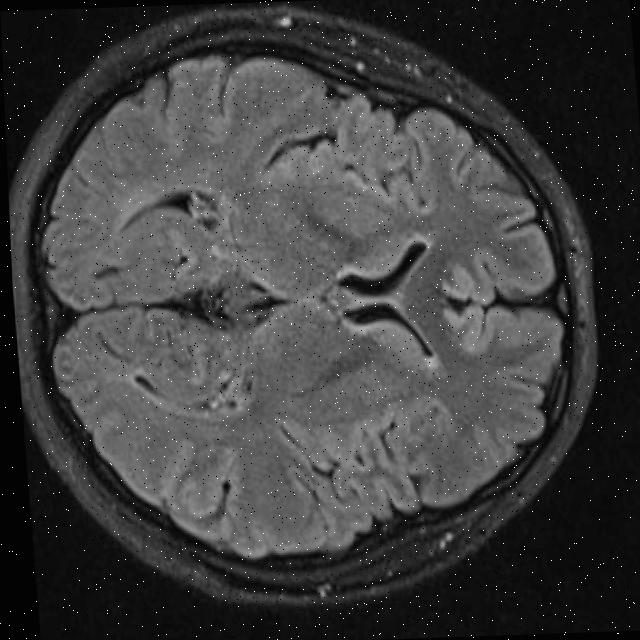NoTumor: (0, 0, 621, 625)
